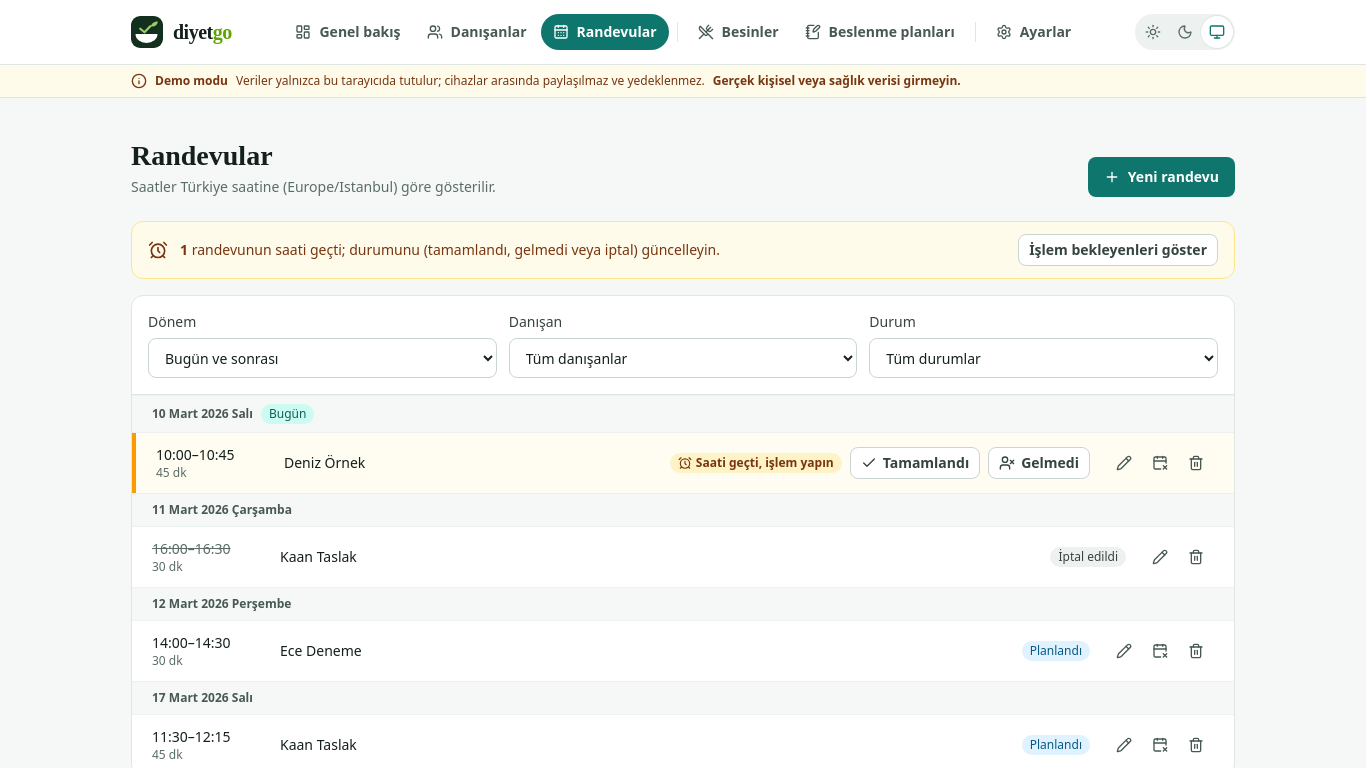
it: Randevu oluşturma › zorunlu alanları ve saat sırasını doğrular
The width and height of the screenshot is (1366, 768).
Expected: the element "10 Mart 2026 Salı" is shown, [132,395,1234,493]
Click the button "Yeni randevu" at (1161, 177), box [1088,157,1235,197]
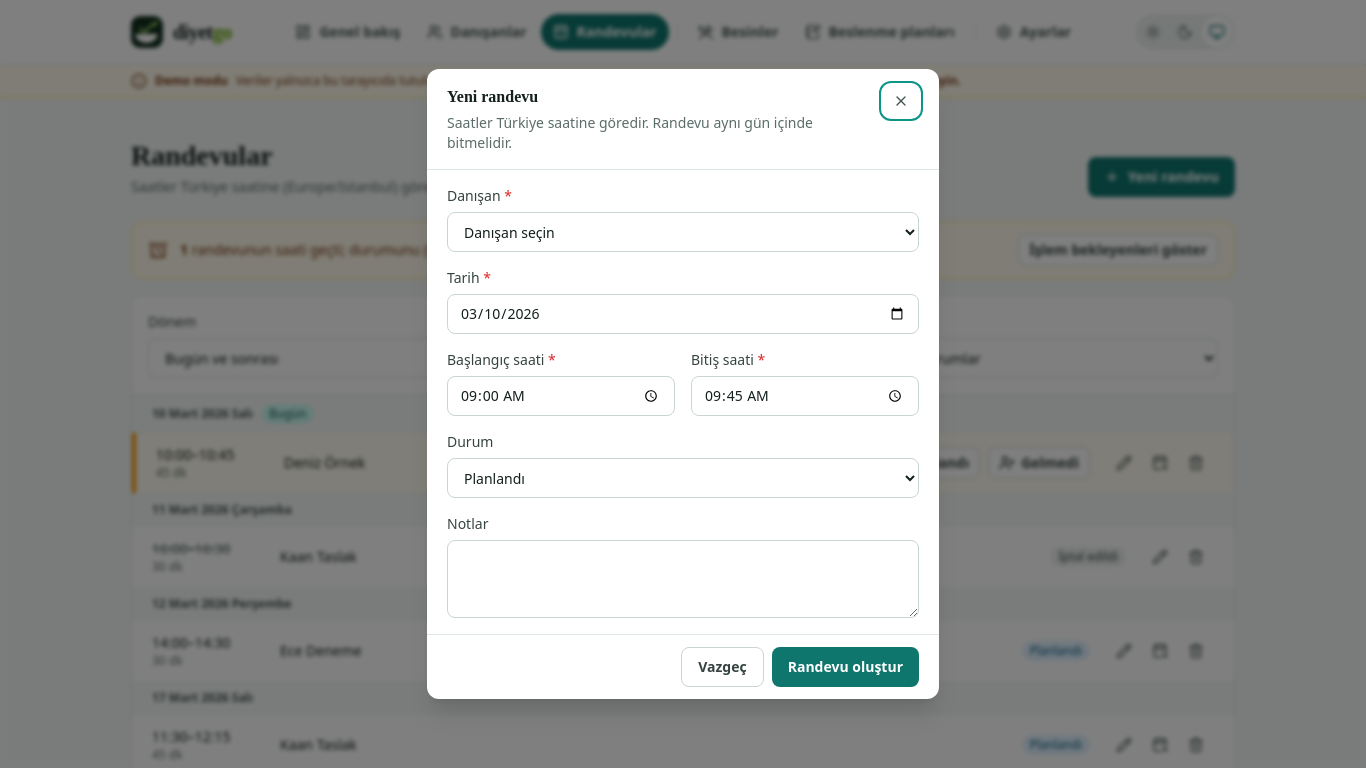
Clear the time field labelled "Başlangıç saati *" at (561, 396), box [447,376,675,416]
Click the button "Randevu oluştur" at (845, 667), box [772,647,919,687]
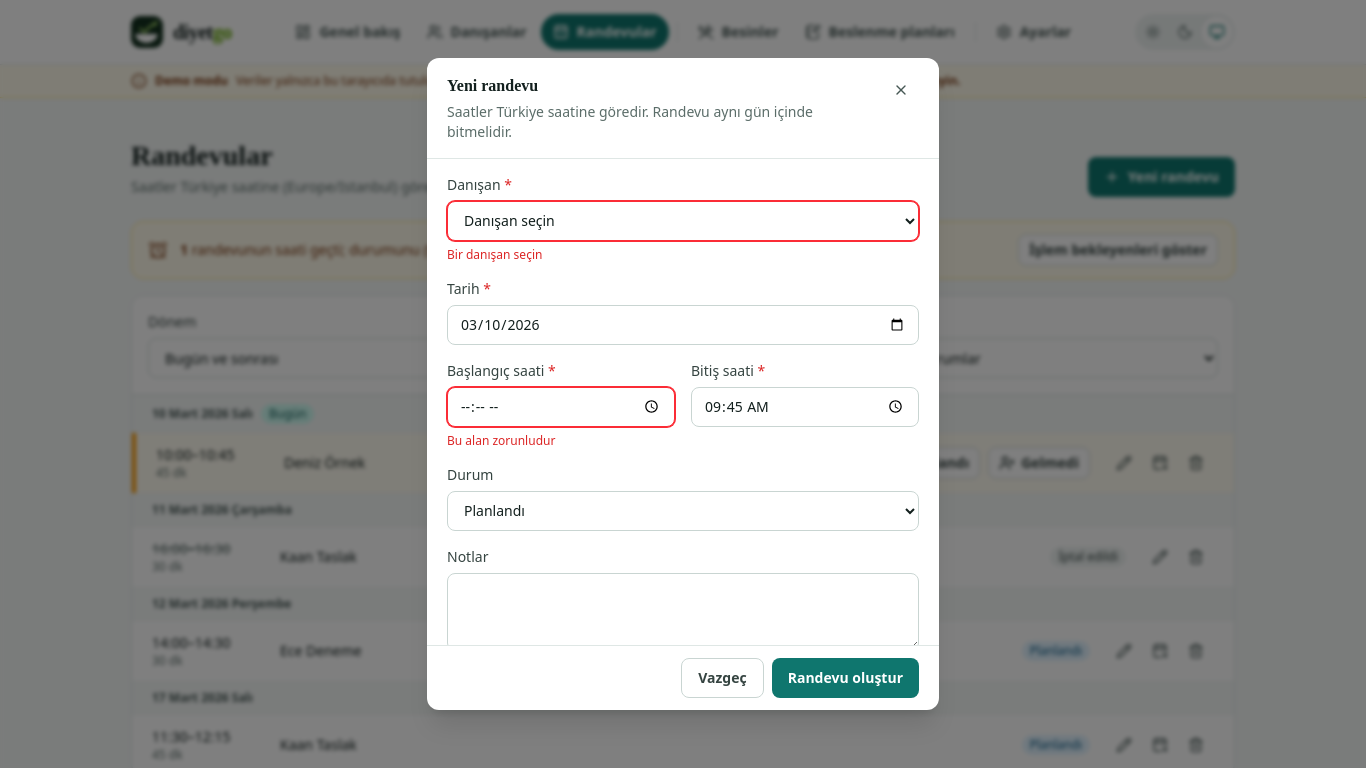
Expected: the text "Bir danışan seçin" is shown, [447,246,542,263]
Expected: the text "Bu alan zorunludur" is shown, [447,432,555,449]
Select "Ece Deneme" in the dropdown labelled "Danışan *" at (683, 221), box [447,201,919,241]
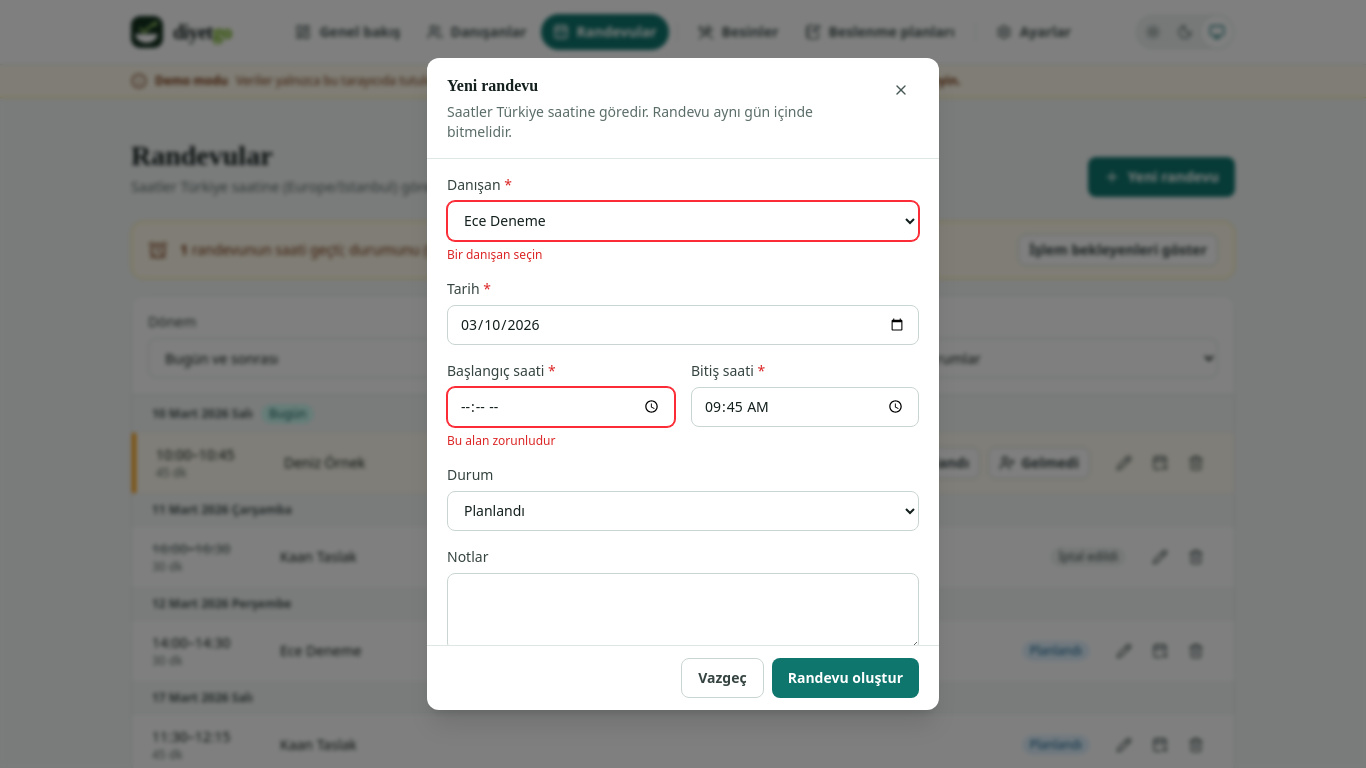
Type "15:00" into the time field labelled "Başlangıç saati *" at (561, 407), box [447,387,675,427]
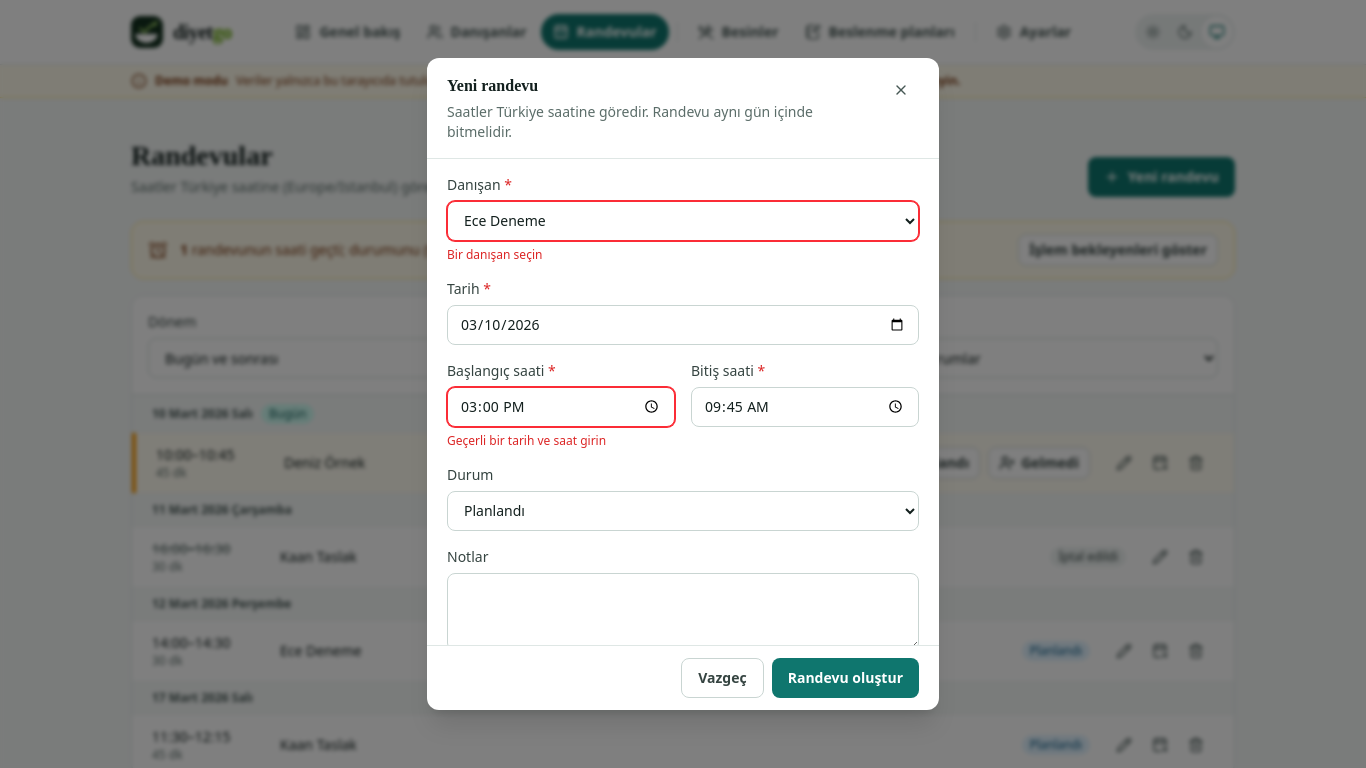
Replace the text in the time field labelled "Bitiş saati *" with "14:30" at (805, 407), box [691,387,919,427]
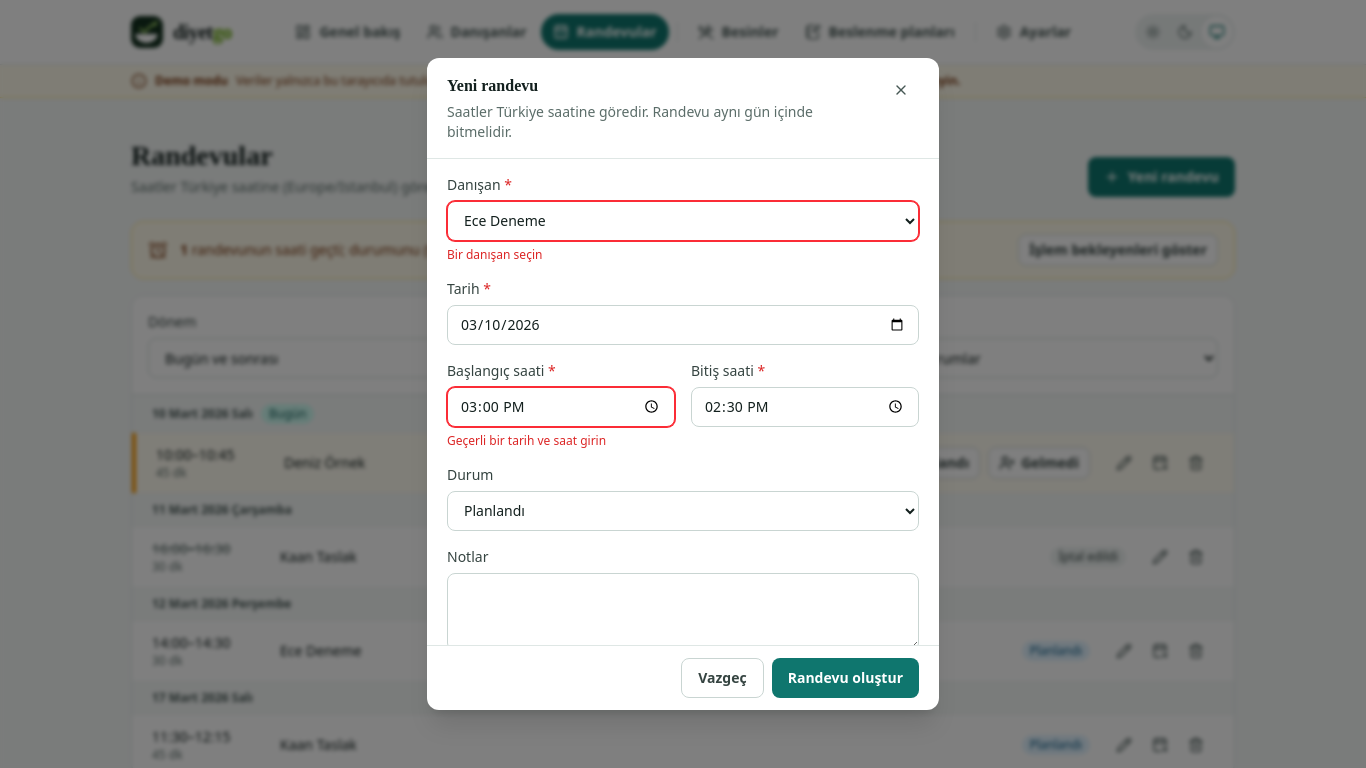
Click the button "Randevu oluştur" at (845, 678), box [772,658,919,698]
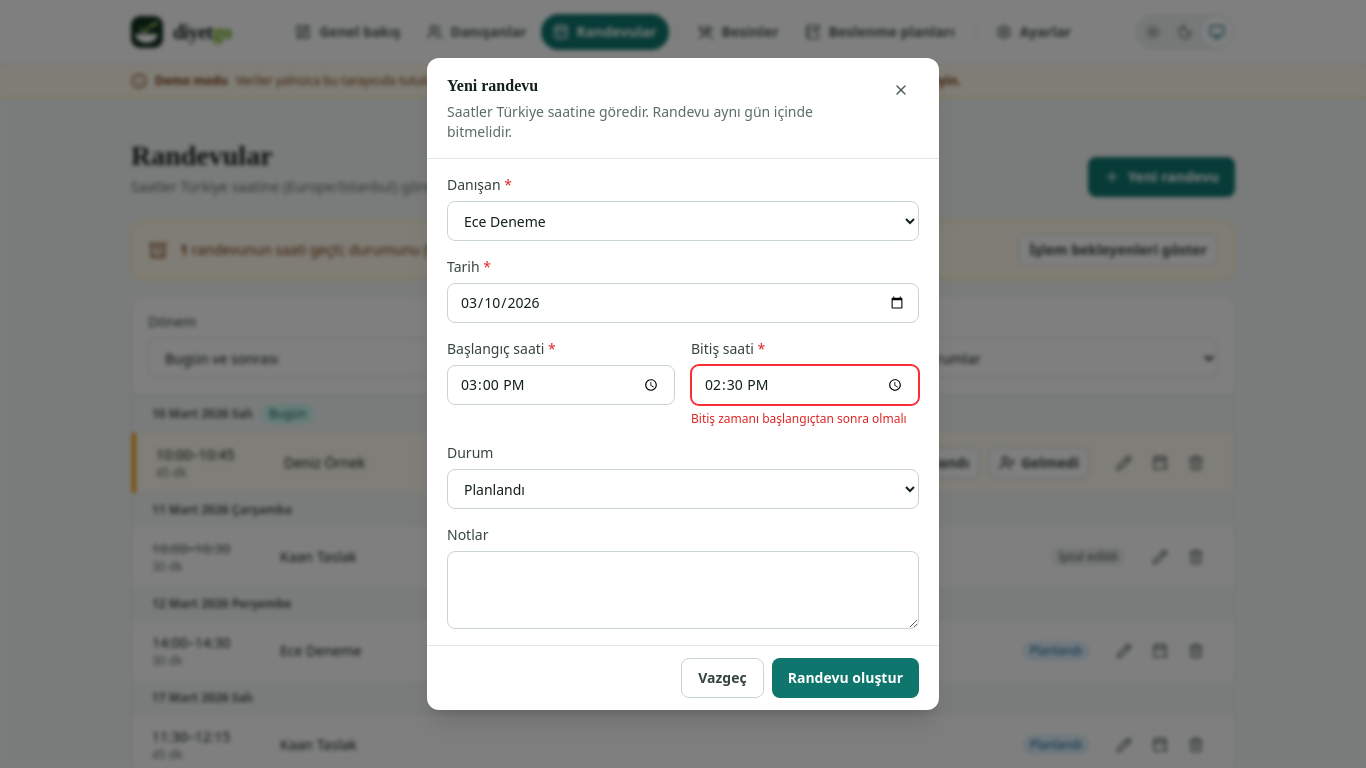
Expected: the text "Bitiş zamanı başlangıçtan sonra olmalı" is shown, [691,411,919,427]
